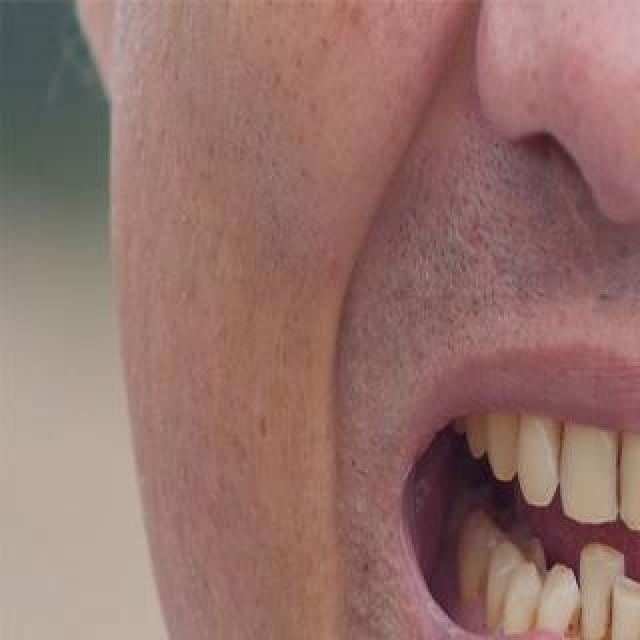maligned: (568, 534, 624, 640), (604, 564, 640, 640)
stains: (600, 588, 630, 640), (552, 604, 594, 640), (626, 598, 640, 640)
